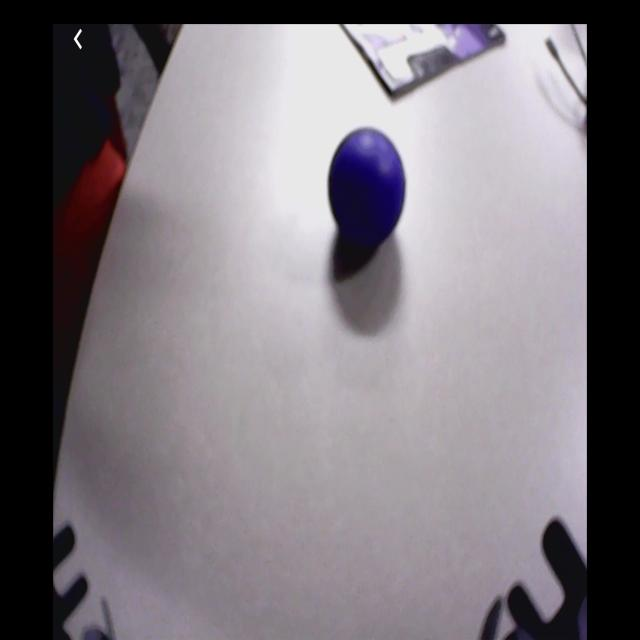ball: (329, 128, 406, 244)
